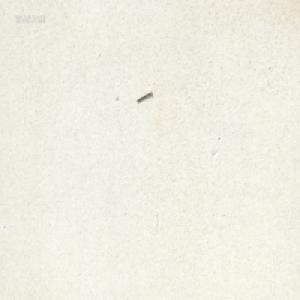Bolt: (135, 89, 152, 102)
